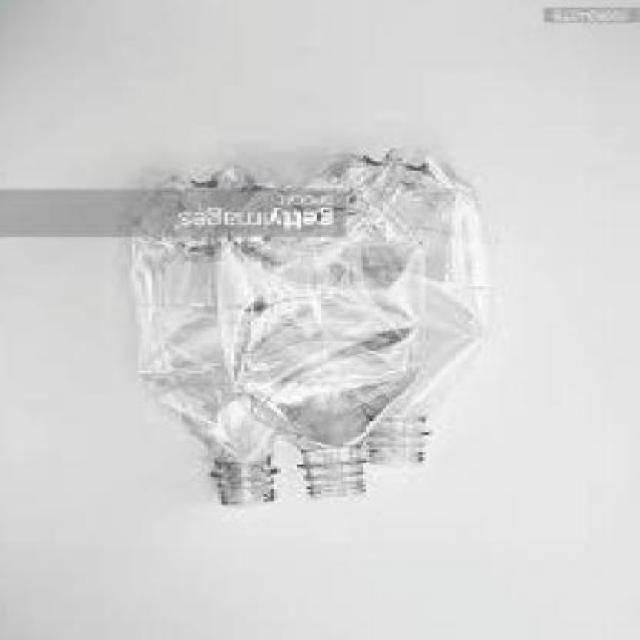PLASTIC: (217, 185, 432, 502), (320, 153, 505, 470), (132, 168, 294, 509)
